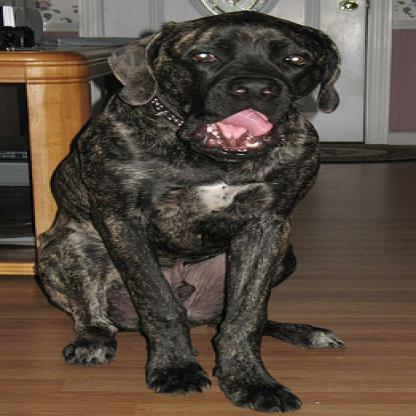dog: (32, 10, 347, 414)
